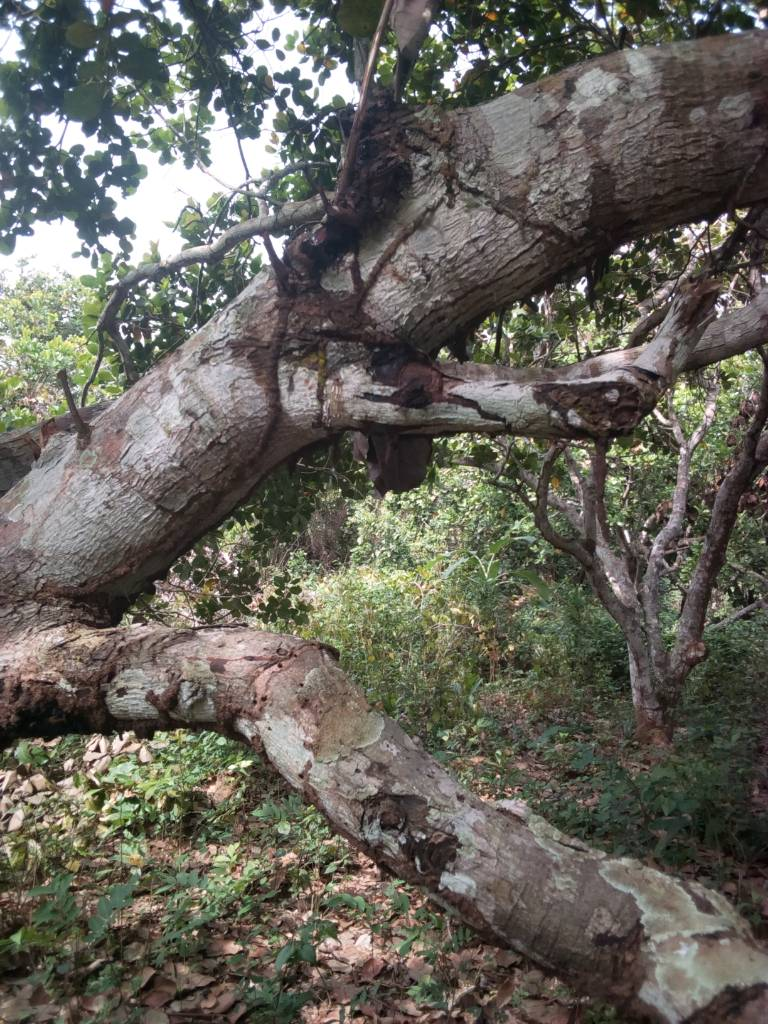Termites: (199, 622, 666, 980), (236, 189, 433, 503), (1, 628, 133, 738)
